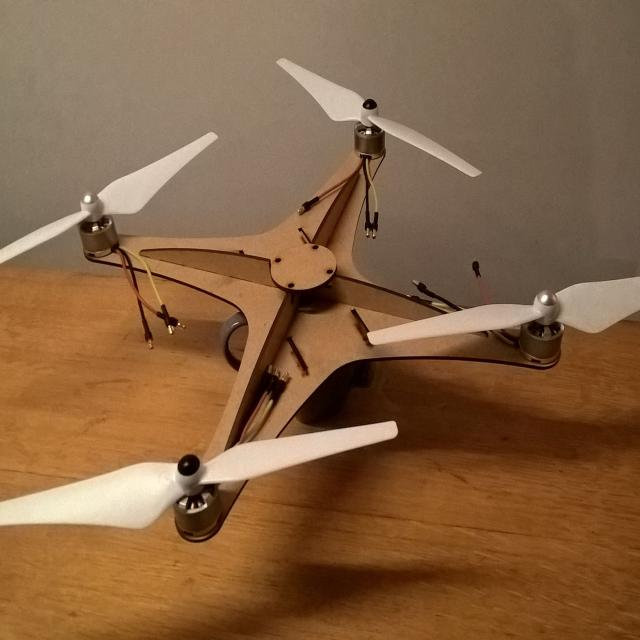drone: (0, 35, 640, 600)
